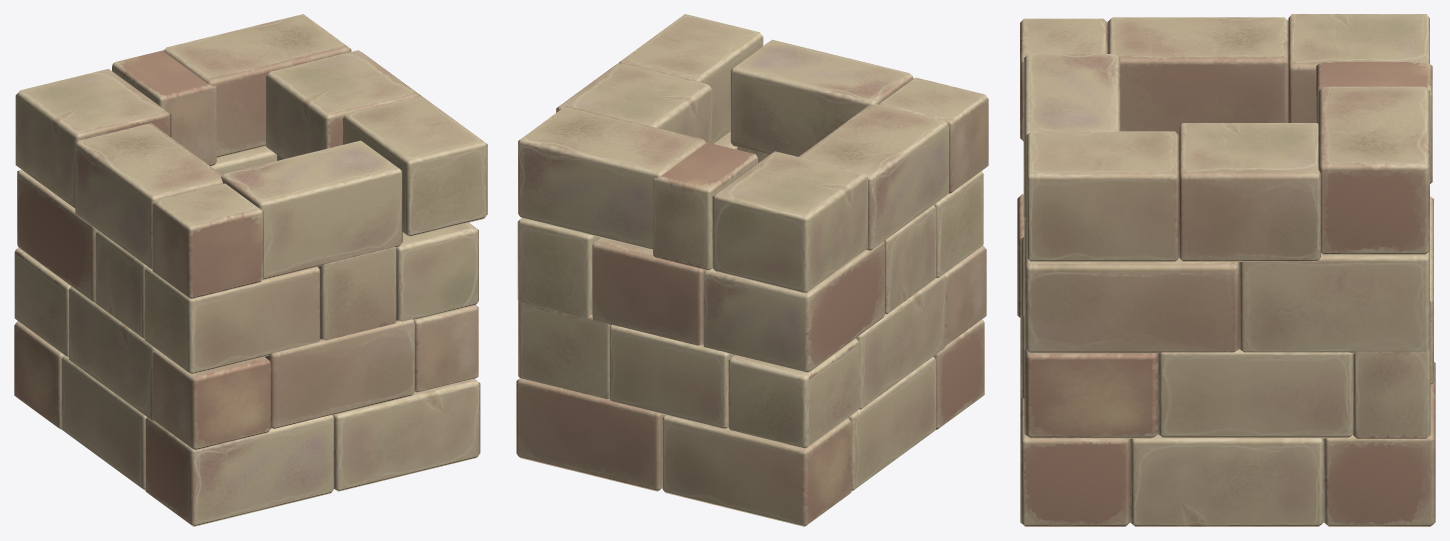
File: squarepillar2.fbx
The picture shows the model from 3 angles, left to right: view 1: azimuth 30°, elevation 25°; view 2: azimuth 150°, elevation 25°; view 3: azimuth 270°, elevation 25°; orthographic projection. The views are drawn at different scales.
Parts seen in each view (by area): view 1: squarpillar_LOD0; view 2: squarpillar_LOD0; view 3: squarpillar_LOD0.
Boxes of the visible parts, bbox=[...] form: squarpillar_LOD0: bbox=[14, 14, 487, 526]; squarpillar_LOD0: bbox=[516, 14, 988, 526]; squarpillar_LOD0: bbox=[1017, 14, 1435, 526].
Size of the model in its own units: 1.67 by 1.66 by 1.73.
